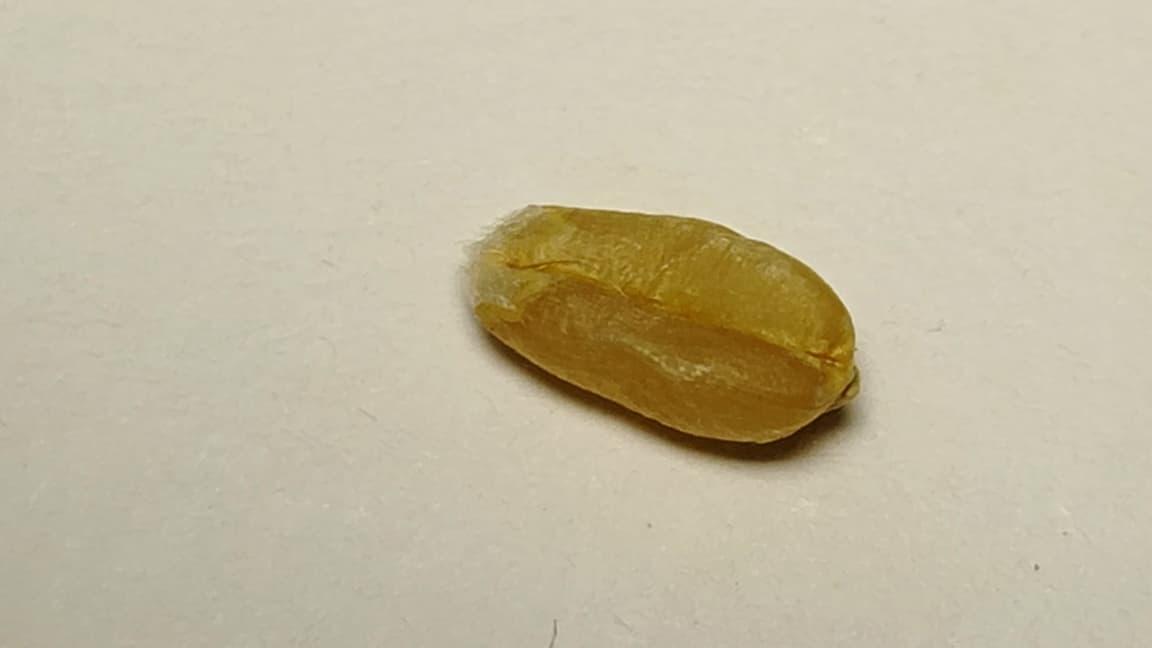healthy: (471, 214, 857, 442)
